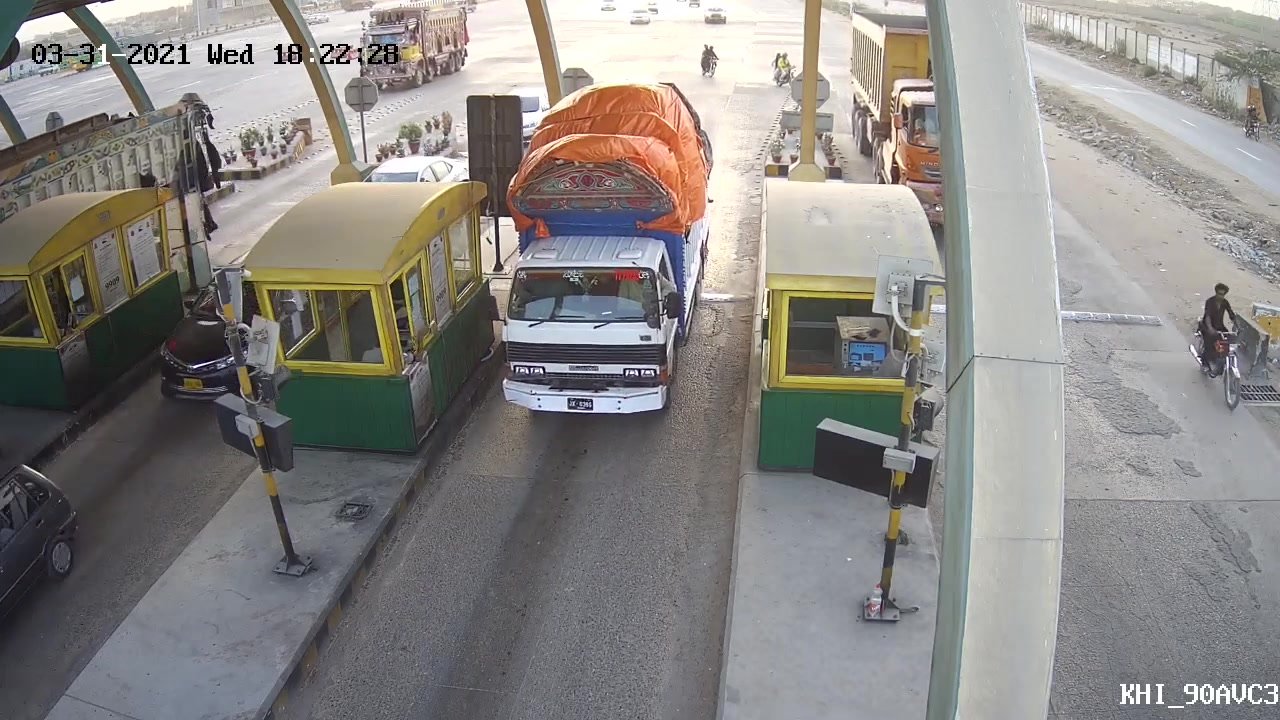F5: (484, 88, 724, 427)
